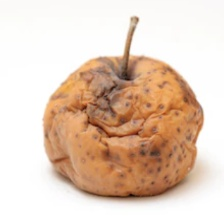apple: (62, 37, 199, 181)
